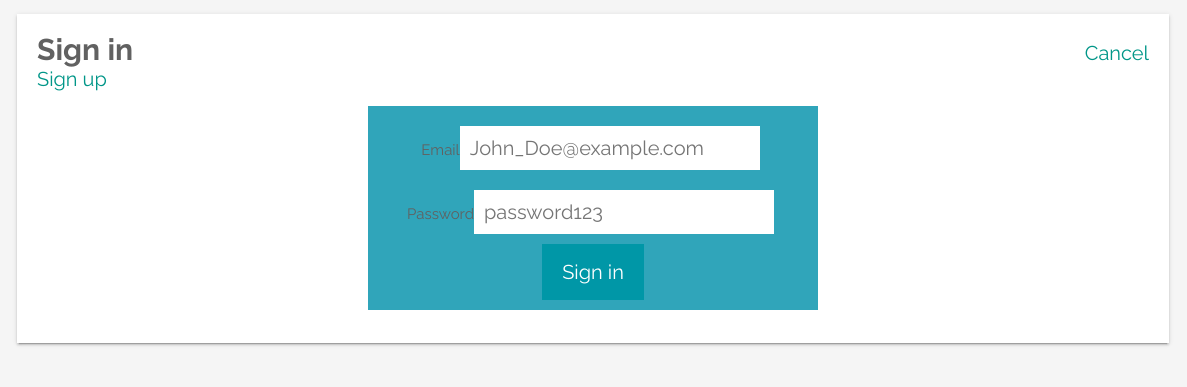
Test: AuthForm Component › Error handling › should display submission error
In the field labelled "Email": (610, 148) [460,126,760,170], type "test@example.com"
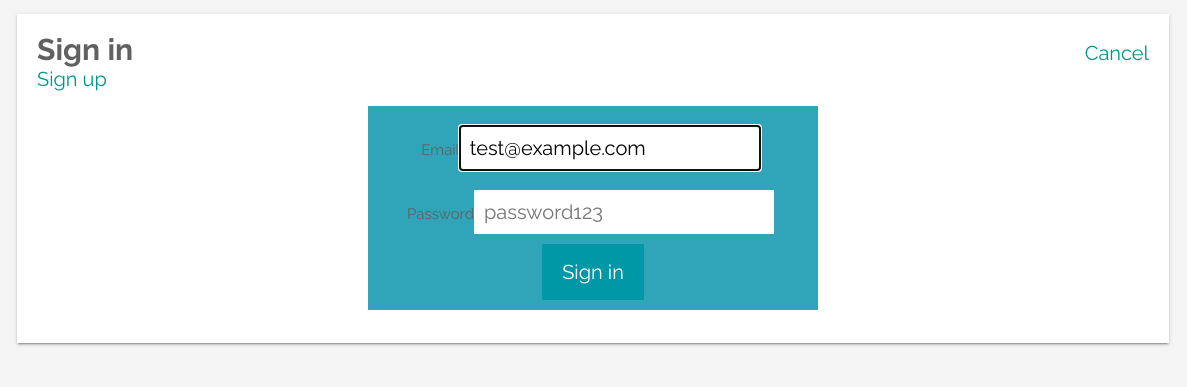
In the password field labelled "Password": (624, 212) [474,190,774,234], type "password123"
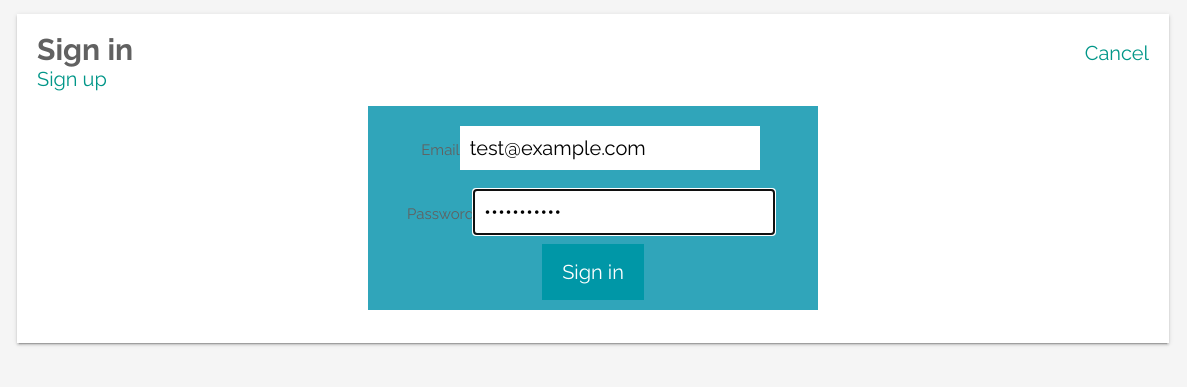
Click the button "Sign in": (593, 272) [542,244,644,300]
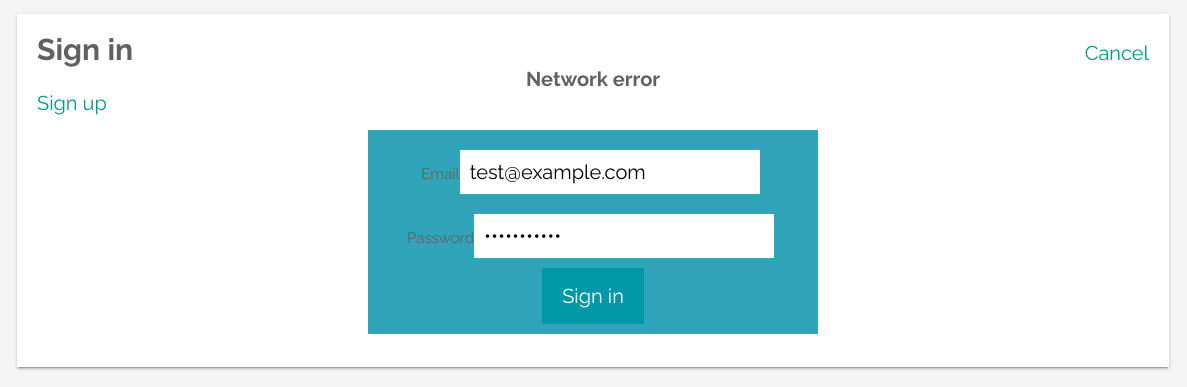
Now the heading "Network error" is shown, box [526,67,660,91]
